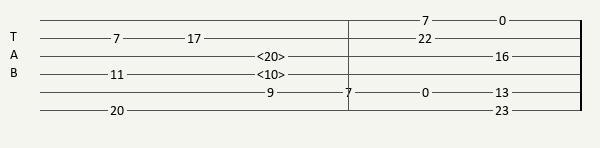0: (422, 86, 433, 99), (499, 14, 510, 27)
11: (110, 68, 128, 81)
13: (495, 86, 513, 99)
16: (495, 50, 513, 63)
17: (187, 32, 205, 45)
20: (110, 104, 128, 117)
22: (418, 32, 436, 45)
23: (495, 104, 513, 117)
7: (113, 32, 124, 45), (345, 86, 356, 99), (422, 14, 433, 27)
9: (267, 86, 278, 99)
harmonic: (257, 50, 289, 63), (257, 68, 289, 81)
